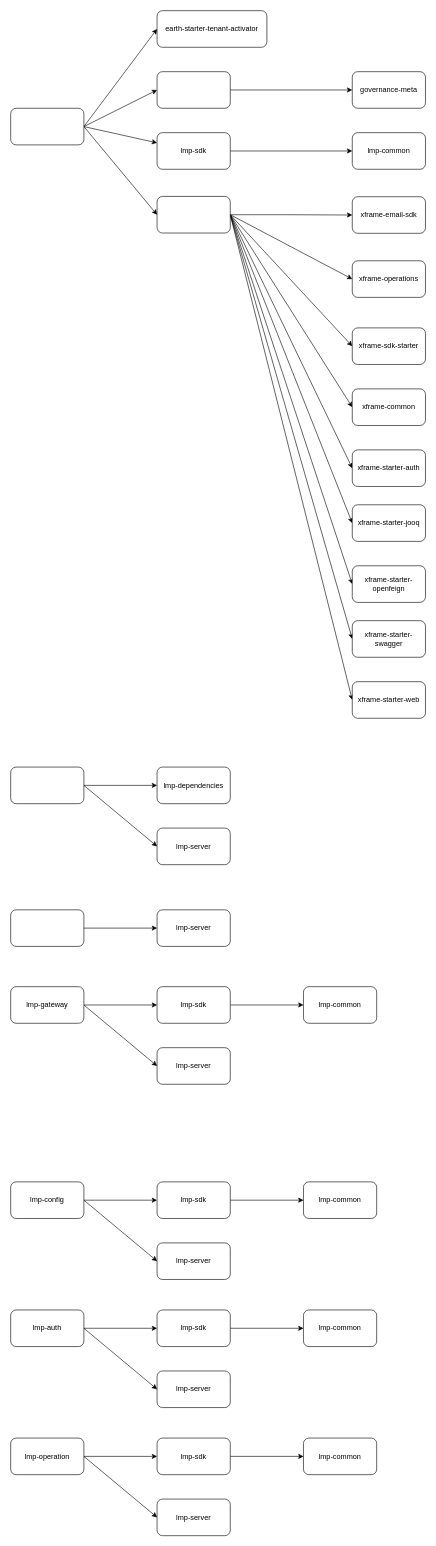
The diagram is 436 pixels wide and 1546 high, and some of its shapes have lost their labels. Each missing label, with the centre of its shape:
"governance-client" belongs at pixel 193 89.
"lmp-api" belongs at pixel 47 126.
"lmp-eureka" belongs at pixel 47 785.
"lmp-job" belongs at pixel 47 927.
"xframe-dependencise" belongs at pixel 193 214.
